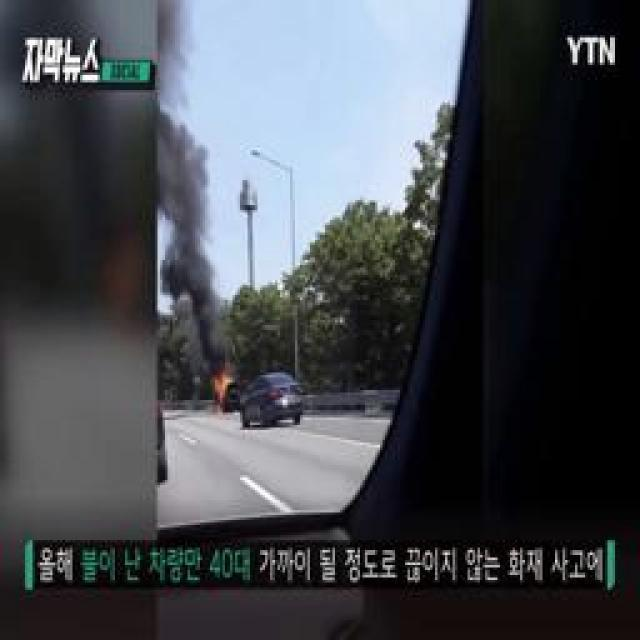Fire: (211, 373, 236, 410)
